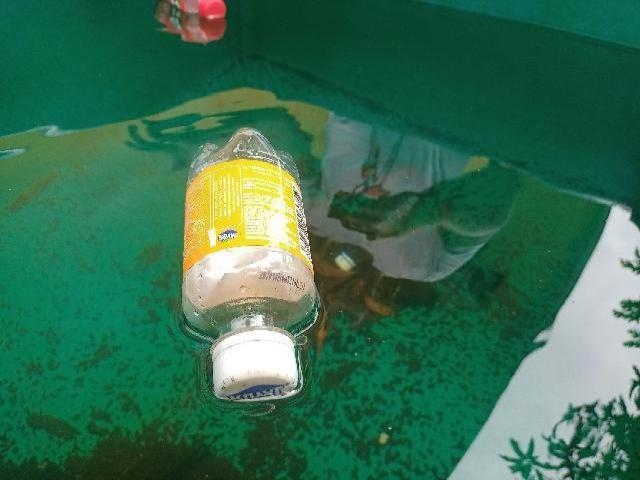Bottle: (169, 122, 328, 410), (148, 0, 237, 28)
